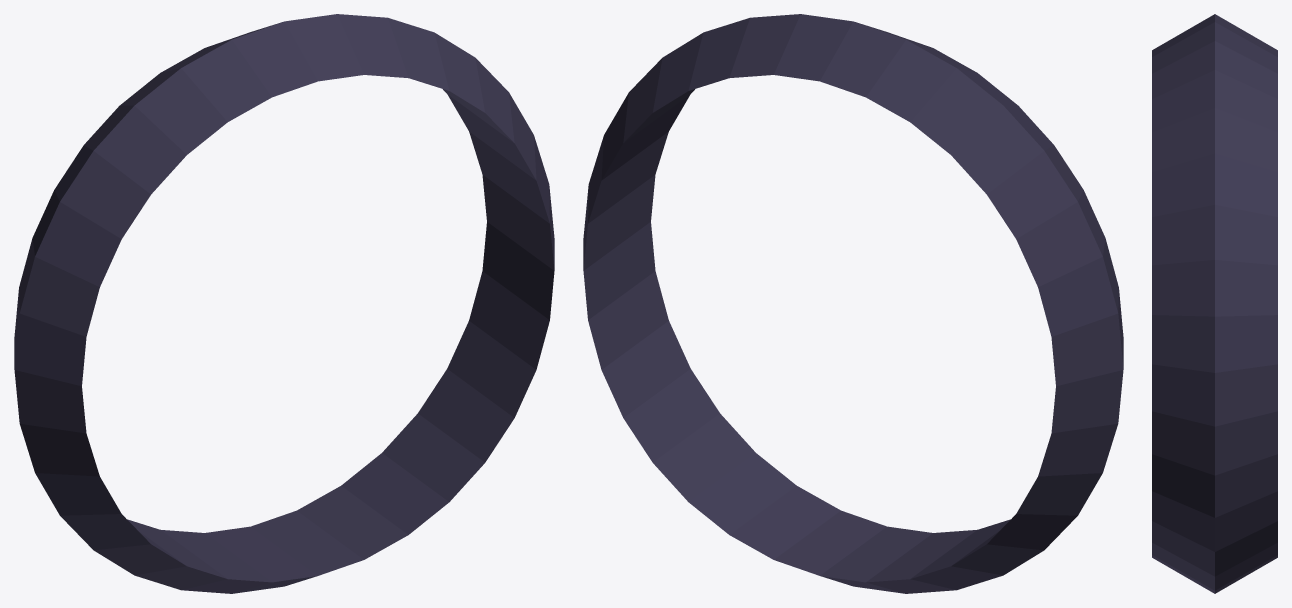
File: ShipyardTorus.fbx
The picture shows the model from 3 angles, left to right: view 1: azimuth 30°, elevation 25°; view 2: azimuth 150°, elevation 25°; view 3: azimuth 270°, elevation 25°; orthographic projection. The views are drawn at different scales.
Visible parts, largest first — view 1: ShipyardTorus; view 2: ShipyardTorus; view 3: ShipyardTorus.
Part boxes in pixels (box(x1,y1,x2,y2)): ShipyardTorus: box(14, 14, 554, 593); ShipyardTorus: box(583, 14, 1123, 593); ShipyardTorus: box(1152, 14, 1277, 593).
Bounding box in the file's own units: 80000 × 80000 × 17321.
